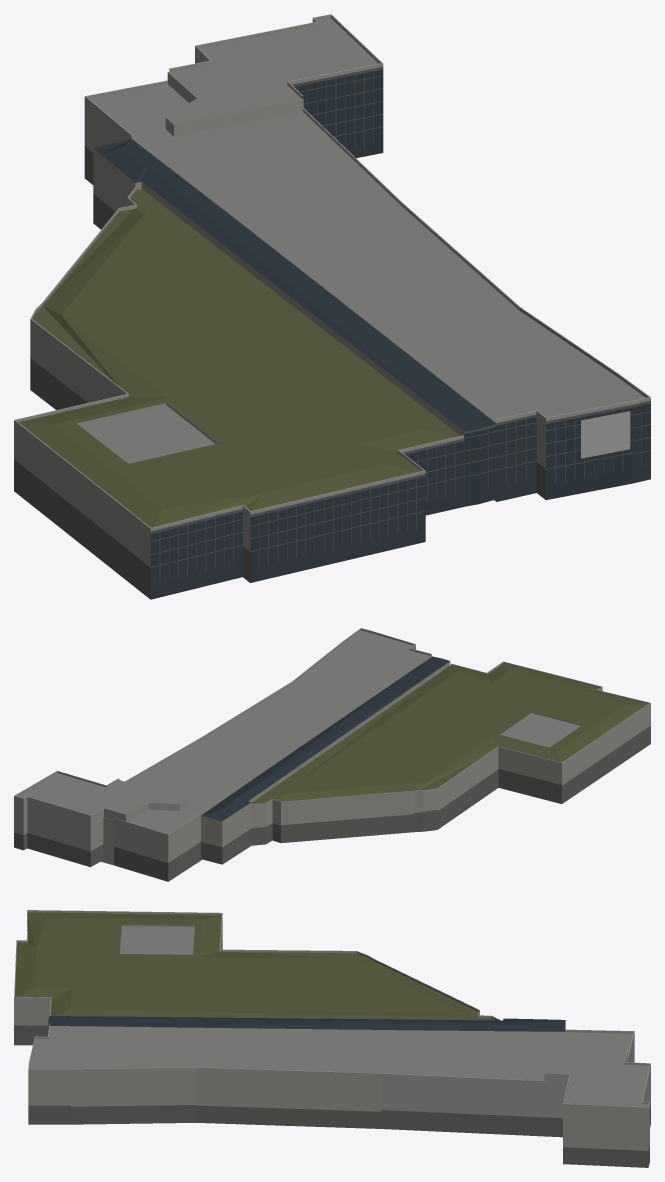
The model's file is novy_smichov.glb.
3 views of the same model, one above another, from view 1: azimuth 30°, elevation 25°; view 2: azimuth 150°, elevation 25°; view 3: azimuth 270°, elevation 25° (orthographic). The views are drawn at different scales.
Visible parts, largest first — view 1: L0; view 2: L0; view 3: L0.
Part boxes in pixels (bbox=[...]): L0: bbox=[14, 14, 650, 599]; L0: bbox=[14, 628, 650, 881]; L0: bbox=[14, 910, 650, 1167].
Size of the model in its own units: 199 by 27.8 by 254.
